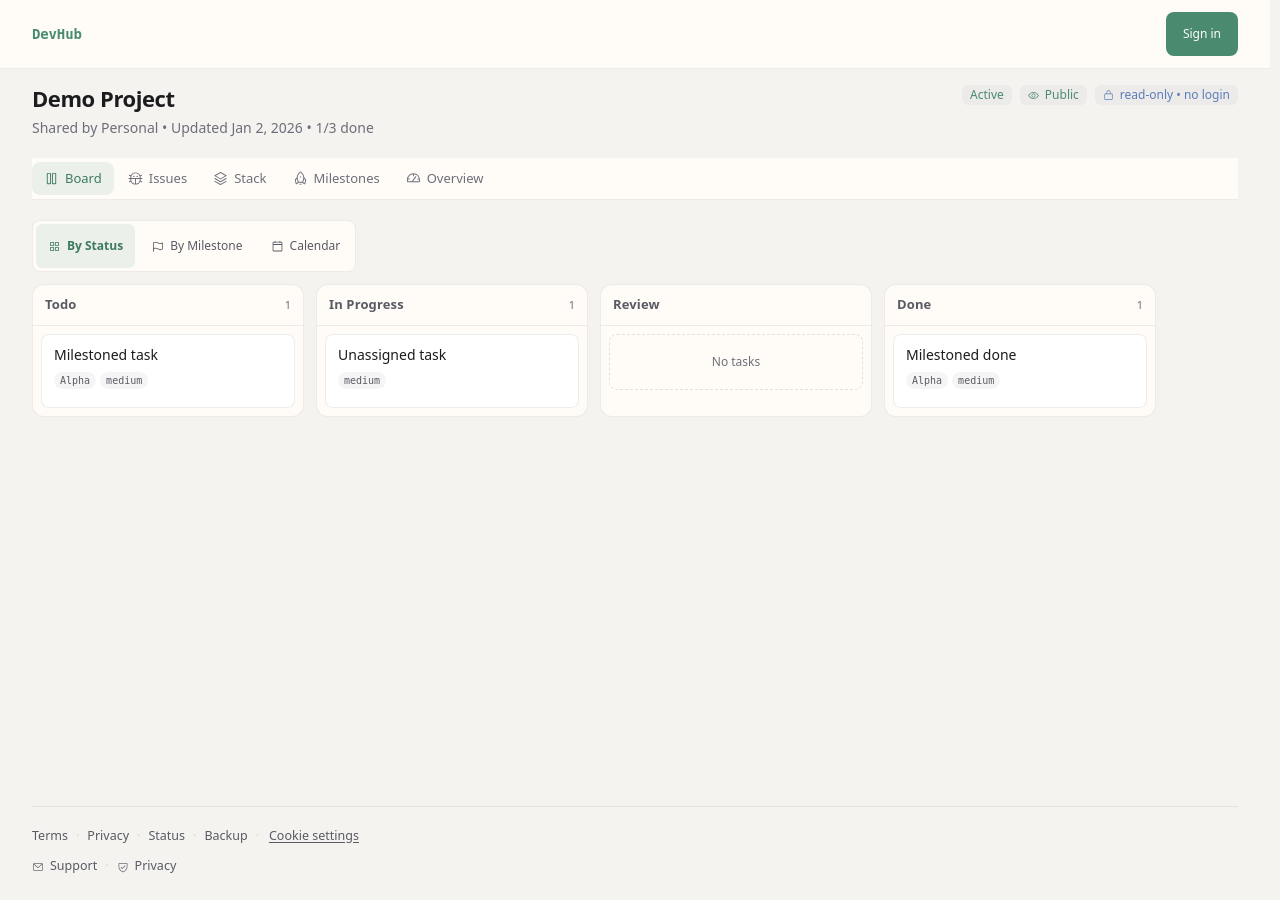
Scenario: PublicProjectPage › groups tasks by milestone with an Unassigned column
Expected: the heading "Demo Project" is shown, [32, 83, 174, 113]
Click the tab "By Milestone".
click(197, 246)  # box [139, 224, 254, 268]
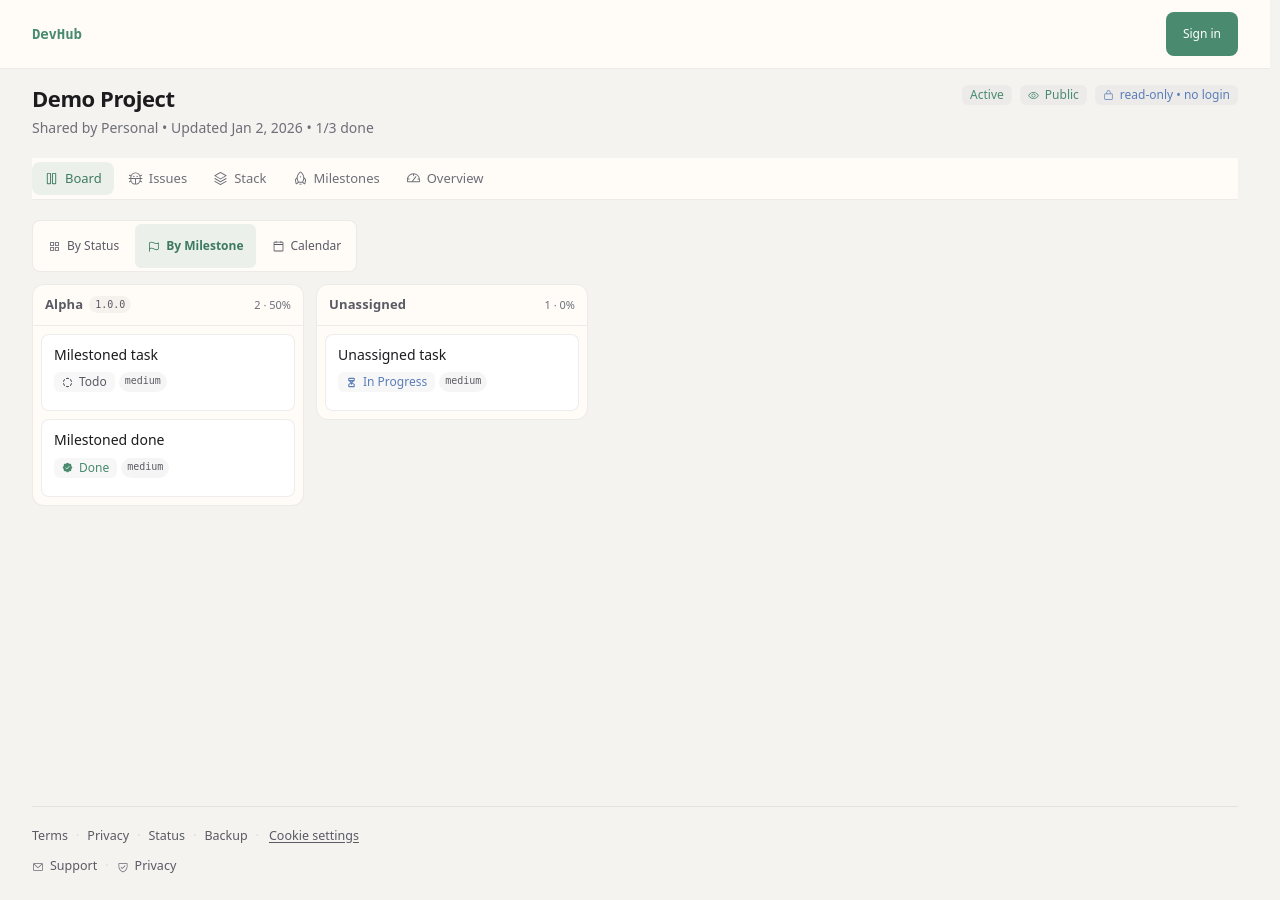
Result: the text "1.0.0" is shown at [89, 296, 131, 313]
Result: the text "Unassigned" is shown at [329, 295, 406, 314]
Result: the text "2 · 50%" is shown at [254, 296, 291, 313]
